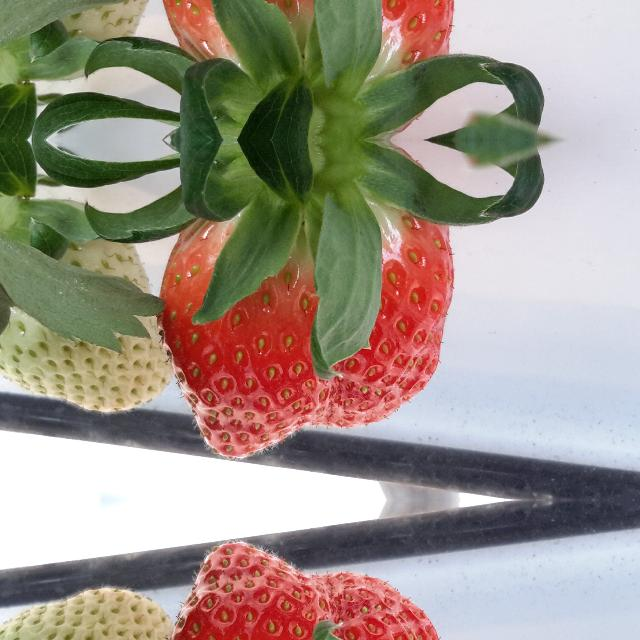Health_100: (158, 188, 452, 462), (157, 538, 452, 640), (157, 0, 452, 91)
Health_25: (0, 197, 172, 421), (0, 0, 171, 83), (0, 579, 171, 640)
